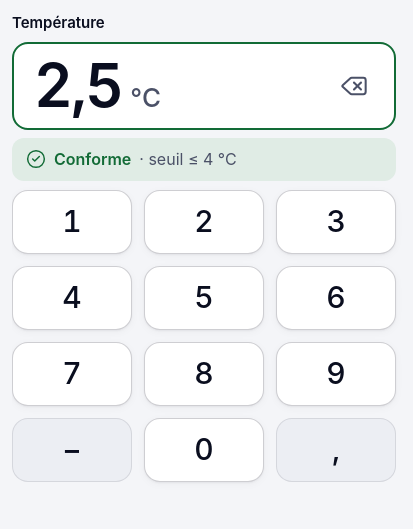
Scenario: TemperatureInput › refuse une 2ᵉ décimale et explique les bornes
This screenshot has width=413, height=529.
Click the button "5".
click(204, 298)  # box 144,266 -> 264,330
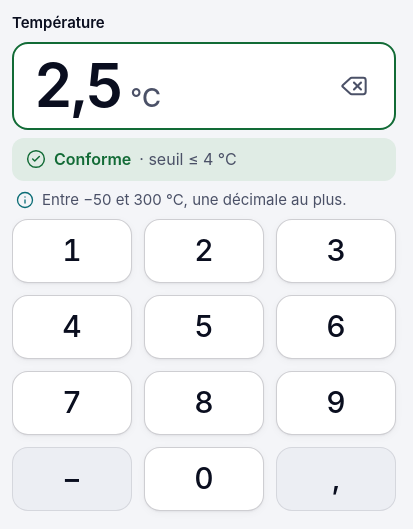
Expected: the text "Entre −50 et 300 °C, une décimale au plus." is shown, 12,181 -> 396,211
